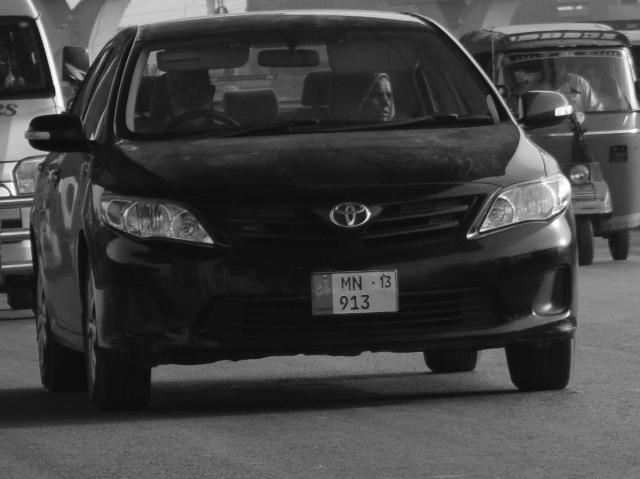Number: (337, 276, 371, 310)
